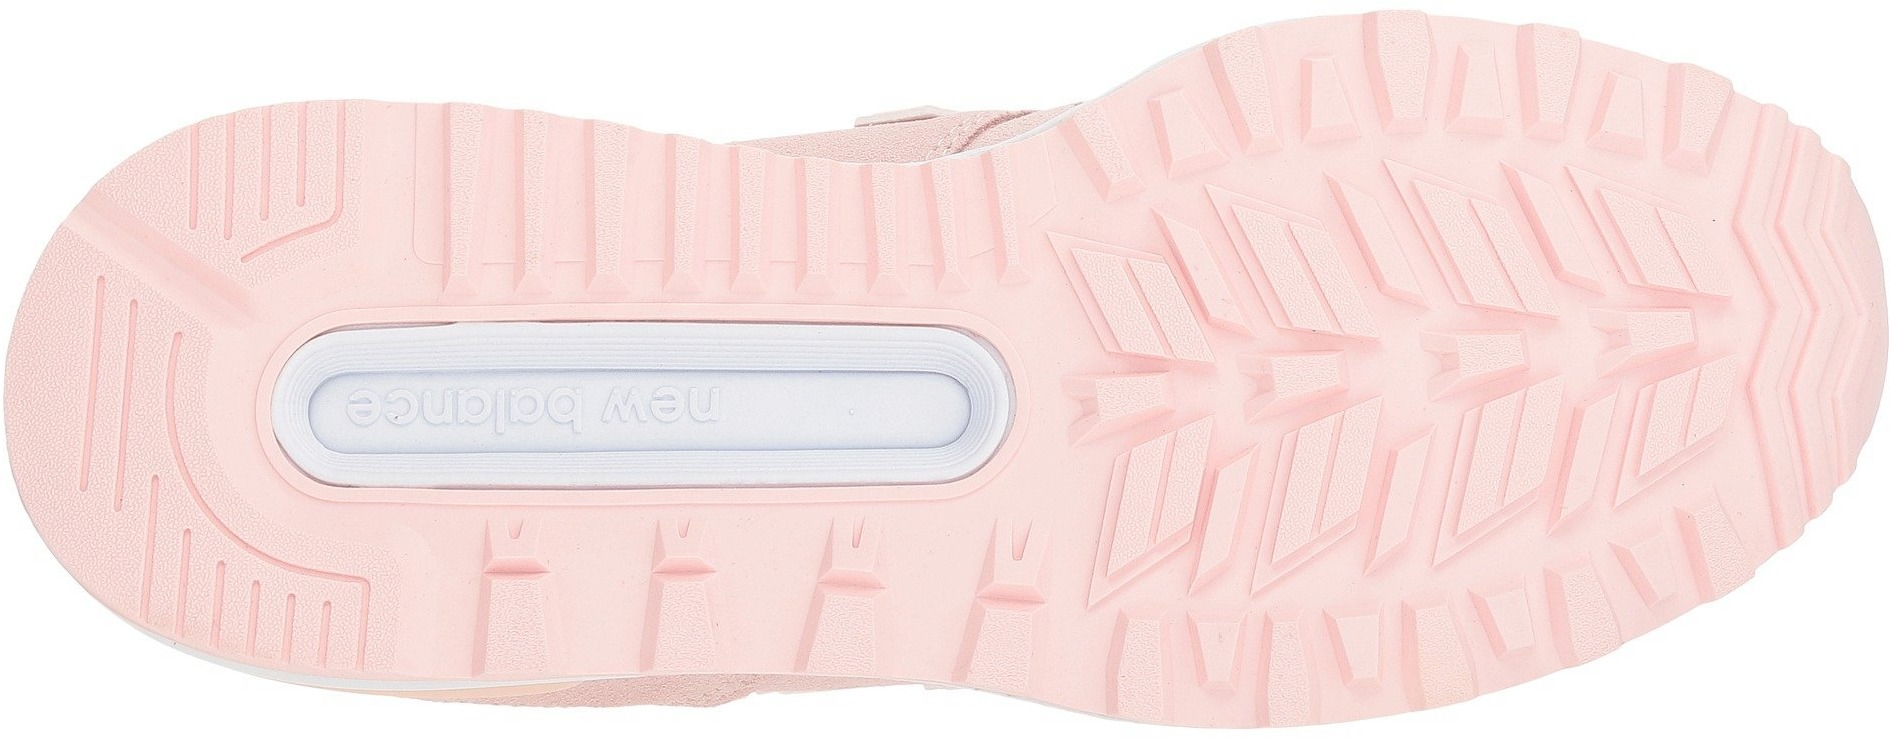chevron: (1032, 203, 1423, 574), (1386, 183, 1738, 522), (1709, 223, 1884, 399), (601, 508, 779, 680), (783, 509, 954, 689)
line: (1190, 175, 1411, 358), (22, 311, 211, 512), (1252, 408, 1444, 603), (235, 527, 386, 673), (224, 112, 370, 254)
quad: (1190, 175, 1411, 358), (1252, 408, 1444, 603), (436, 130, 640, 314), (601, 508, 779, 680), (783, 509, 954, 689), (859, 162, 1036, 317), (1357, 8, 1522, 146), (1244, 590, 1398, 730)
ribbon: (790, 282, 1049, 516)
text: (341, 346, 490, 473), (592, 350, 731, 467), (489, 369, 589, 457)
